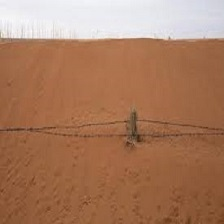sandy_soil: (10, 24, 213, 207)
